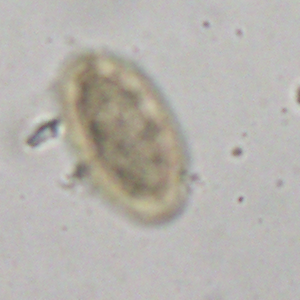Fasciola_hepatica_egg: (57, 50, 191, 227)
